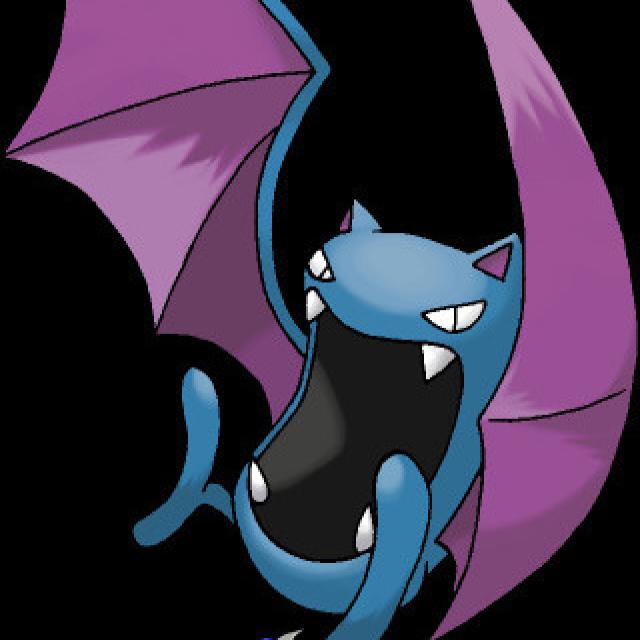Golbat: (39, 5, 632, 640)
